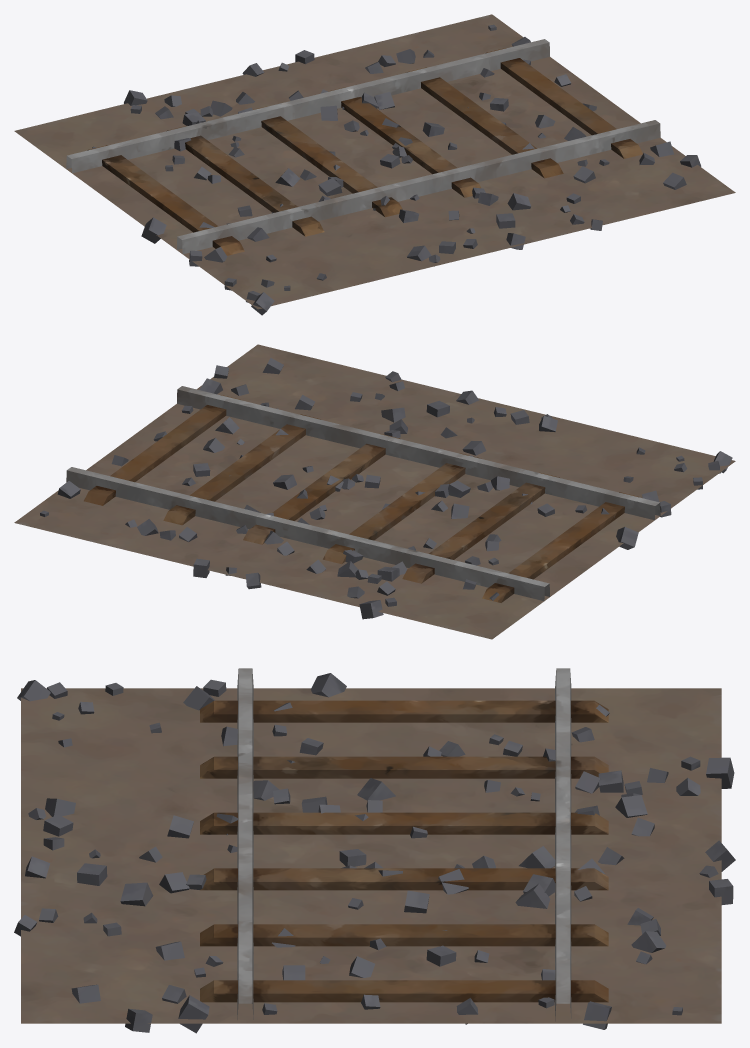
The model's file is RailsE.fbx.
3 renders of one model, top to bottom at view 1: azimuth 30°, elevation 25°; view 2: azimuth 150°, elevation 25°; view 3: azimuth 270°, elevation 25°, orthographic. The views are drawn at different scales.
Visible parts, largest first — view 1: RailsE; view 2: RailsE; view 3: RailsE.
Boxes of the visible parts, x1,y1,x2,y2 form: RailsE: (14, 14, 735, 315); RailsE: (14, 344, 735, 639); RailsE: (14, 668, 735, 1033).
Size of the model in its own units: 1025 by 52.74 by 910.
